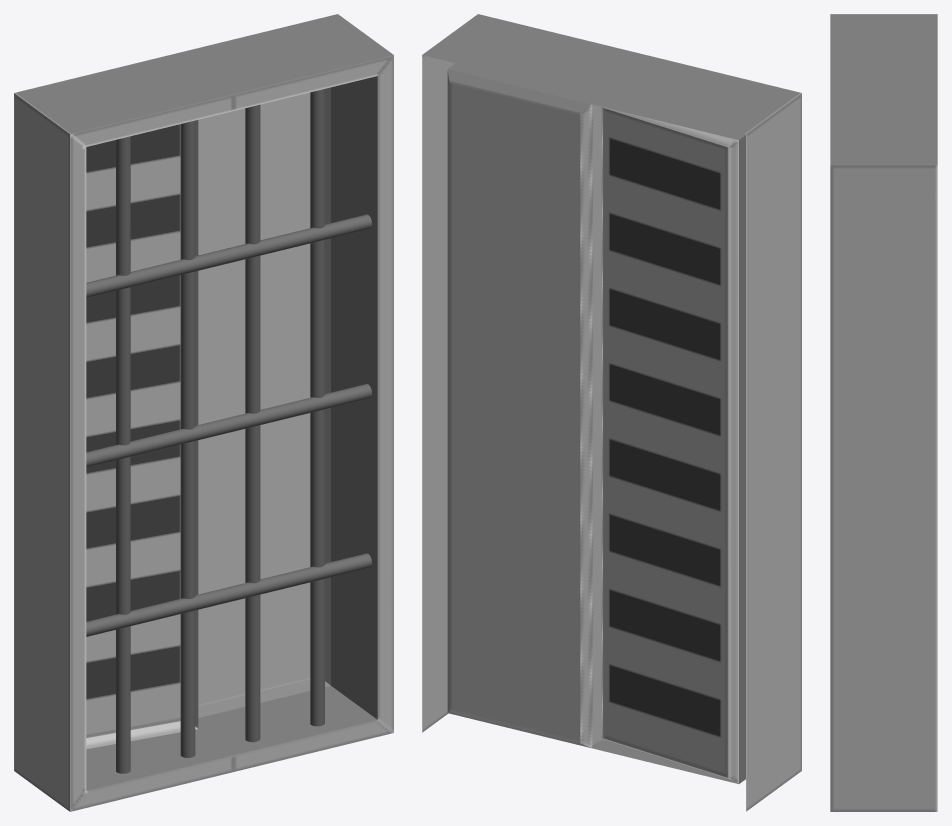
The model's file is Door_Barred_02.fbx.
3 views of the same model, side by side, from view 1: azimuth 30°, elevation 25°; view 2: azimuth 150°, elevation 25°; view 3: azimuth 270°, elevation 25° (orthographic). The views are drawn at different scales.
Parts seen in each view (by area): view 1: Door_Barred; view 2: Door_Barred; view 3: Door_Barred.
Boxes of the visible parts, bbox=[...] form: Door_Barred: bbox=[14, 14, 393, 811]; Door_Barred: bbox=[422, 14, 801, 811]; Door_Barred: bbox=[830, 14, 937, 811].
Size of the model in its own units: 100 by 200 by 30.
Materials: 1 (1 with a texture image).
